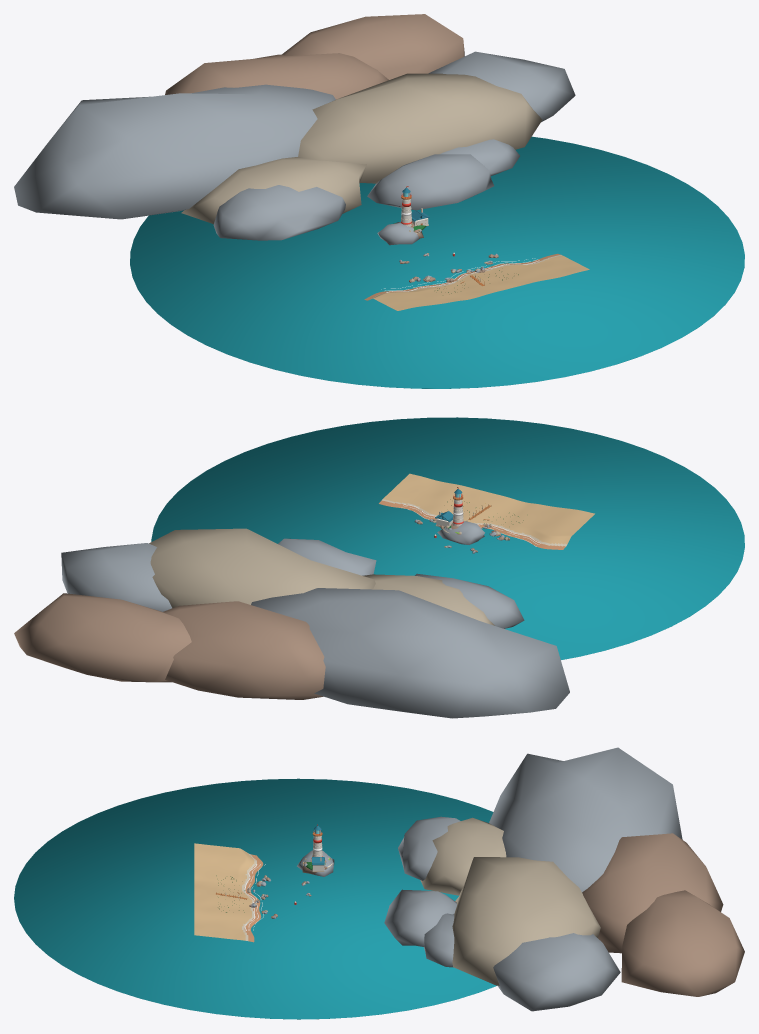
Rendered from LH_lighthouse.glb.
3 renders of one model, top to bottom at view 1: azimuth 30°, elevation 25°; view 2: azimuth 150°, elevation 25°; view 3: azimuth 270°, elevation 25°, orthographic. The views are drawn at different scales.
Visible parts, largest first — view 1: LH_sea, LH_far, LH_beach, LH_rock, LH_props; view 2: LH_sea, LH_far, LH_beach, LH_rock, LH_props; view 3: LH_sea, LH_far, LH_beach, LH_props, LH_rock.
Boxes of the visible parts, x1,y1,x2,y2 form: LH_sea: [130, 136, 744, 388]; LH_far: [14, 14, 575, 240]; LH_beach: [364, 253, 589, 310]; LH_rock: [377, 222, 426, 245]; LH_props: [381, 252, 539, 293]; LH_sea: [151, 417, 744, 659]; LH_far: [14, 528, 569, 718]; LH_beach: [379, 473, 594, 549]; LH_rock: [437, 521, 484, 544]; LH_props: [401, 499, 540, 553]; LH_sea: [14, 778, 496, 1019]; LH_far: [384, 747, 744, 1011]; LH_beach: [194, 843, 263, 942]; LH_props: [216, 864, 311, 930]; LH_rock: [297, 850, 334, 876].
Bounding box in the file's own units: 360 × 56.73 × 462.
Materials: 1 (1 with a texture image).
